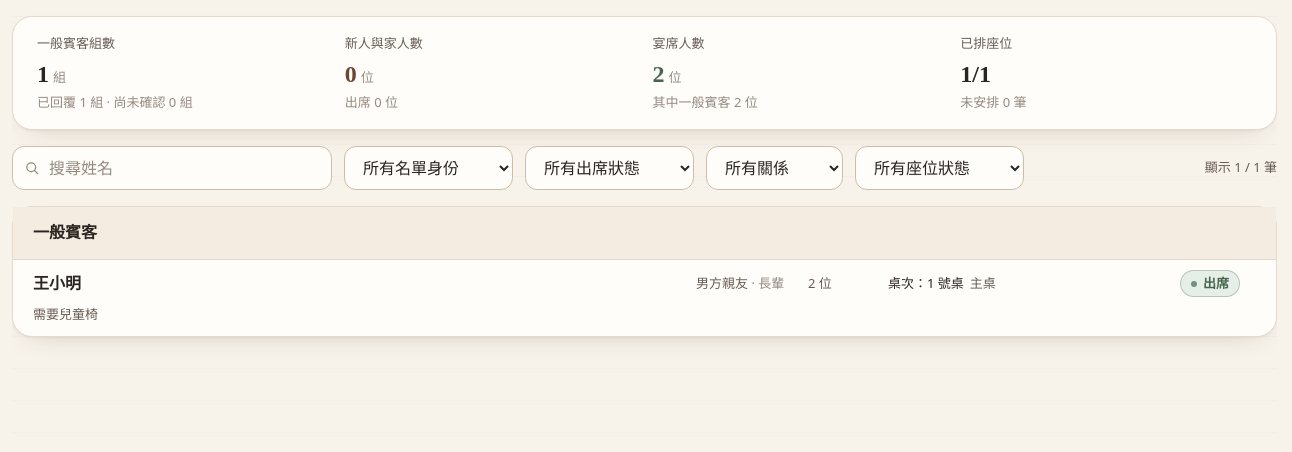
GuestList › distinguishes no filter results from an empty source collection
Type "不存在的合成姓名" into the search field named "搜尋賓客姓名". click: (172, 168)
box: x1=12 y1=146 x2=332 y2=190
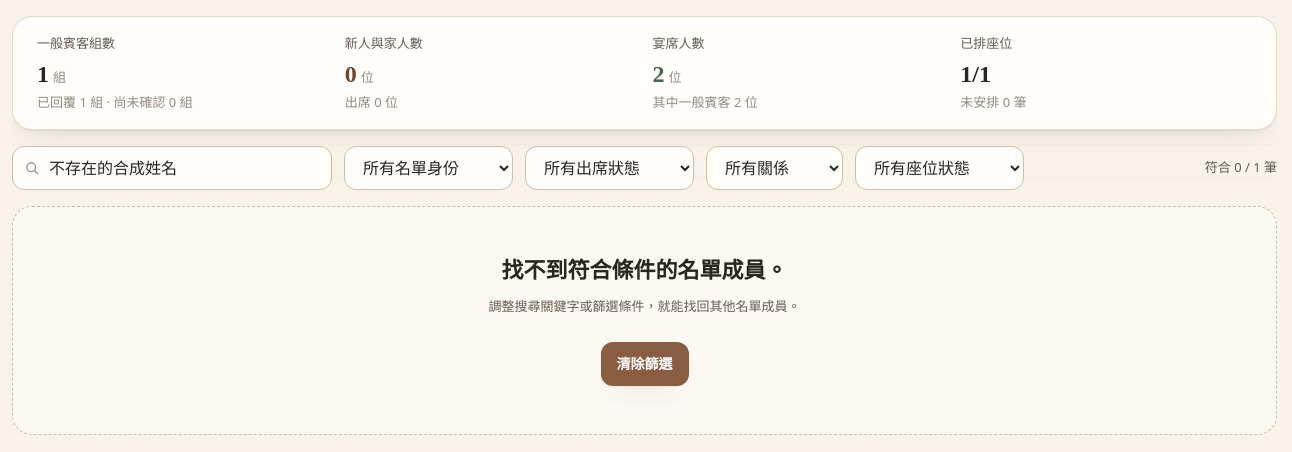
Expected: the text "找不到符合條件的名單成員。" is shown, x1=502 y1=258 x2=788 y2=283
